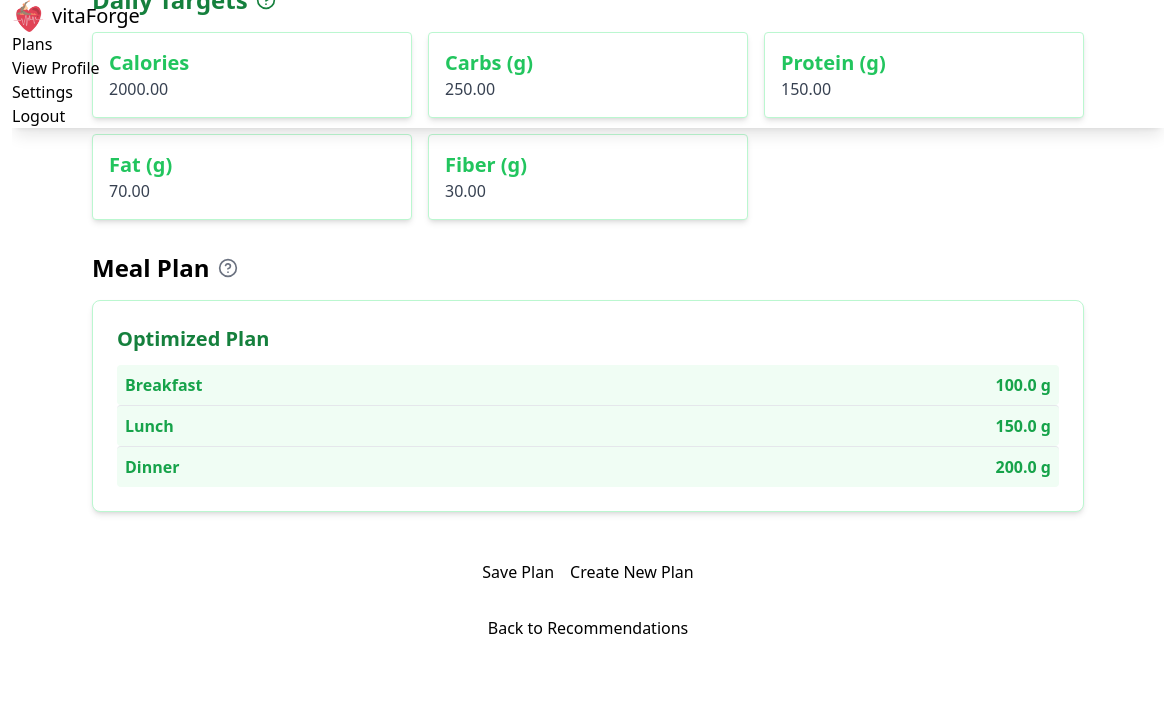
Test: MealPlanResults Component › handles save plan button click and updates status on success
(page scrolled)
Click the button "Save Plan".
click(518, 572)  # box left=482, top=560, right=554, bottom=584
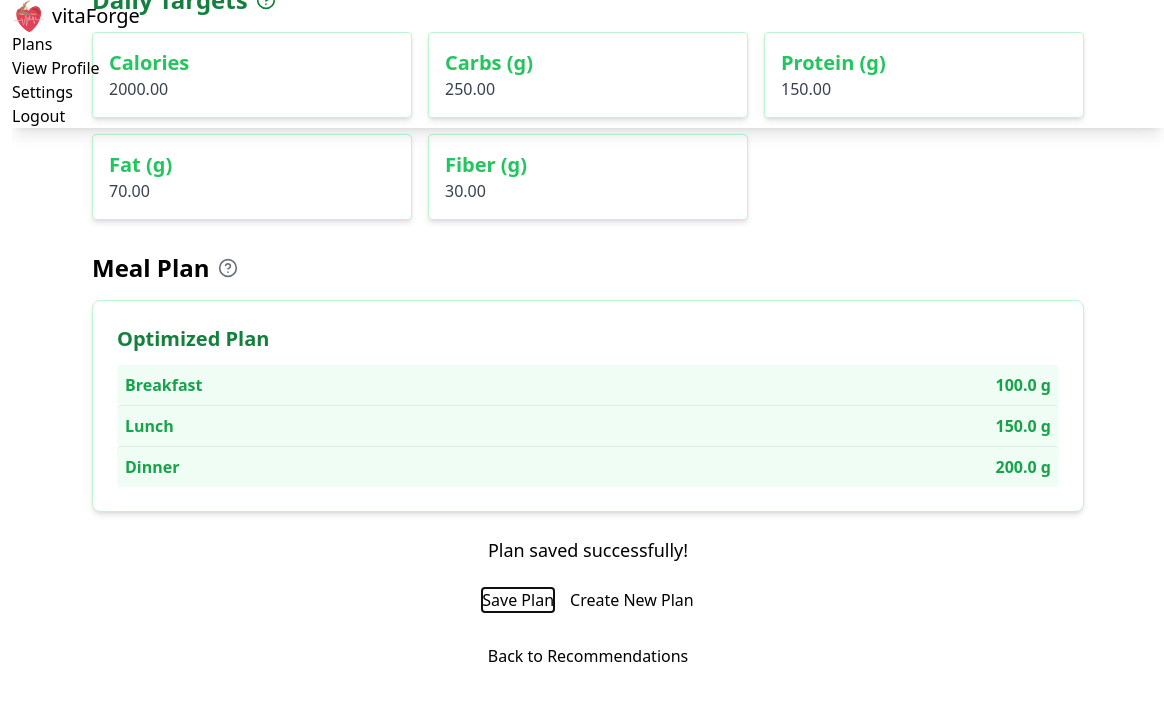
Expected: the text "Plan saved successfully!" is shown, left=488, top=538, right=688, bottom=562
